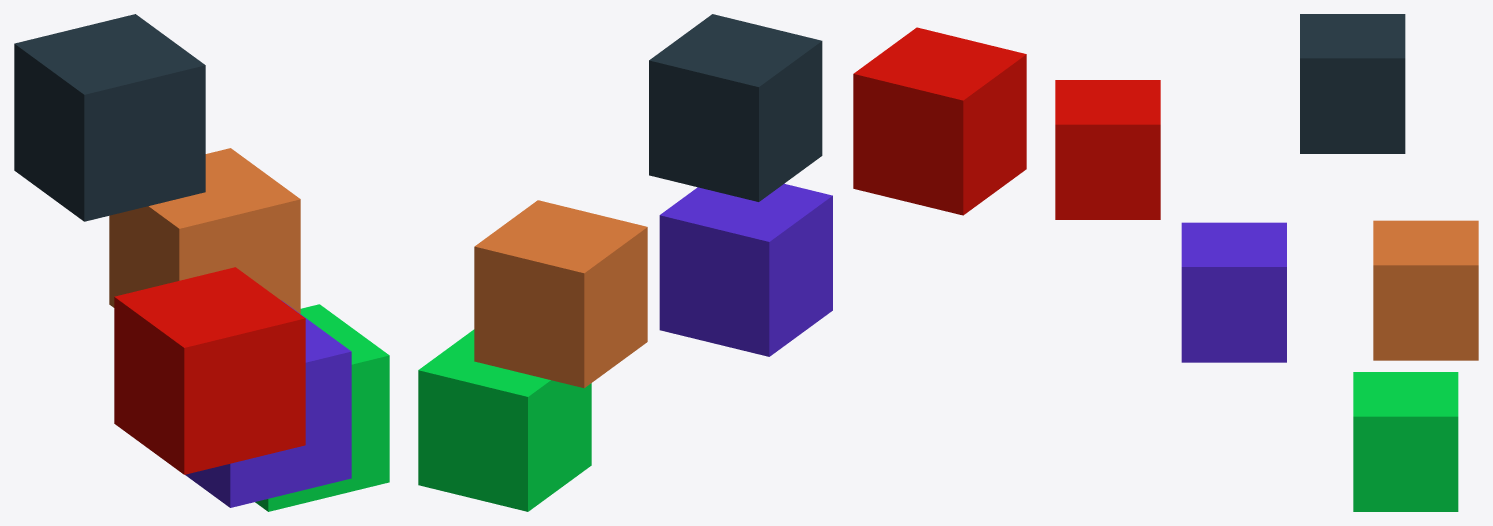
The model's file is kocky.fbx.
3 renders of one model, left to right at view 1: azimuth 30°, elevation 25°; view 2: azimuth 150°, elevation 25°; view 3: azimuth 270°, elevation 25°, orthographic. The views are drawn at different scales.
Visible parts, largest first — view 1: Cube.002, Cube.003, Cube.001, Cube, Cube.004; view 2: Cube.001, Cube.002, Cube.003, Cube, Cube.004; view 3: Cube.001, Cube, Cube.002, Cube.003, Cube.004.
Boxes of the visible parts, left/top/right/bottom form: Cube.002: left=114, top=267, right=305, bottom=474; Cube.003: left=14, top=14, right=205, bottom=221; Cube.001: left=109, top=148, right=300, bottom=313; Cube: left=185, top=300, right=351, bottom=507; Cube.004: left=255, top=304, right=389, bottom=511; Cube.001: left=474, top=200, right=647, bottom=388; Cube.002: left=853, top=27, right=1026, bottom=215; Cube.003: left=649, top=14, right=822, bottom=201; Cube: left=659, top=183, right=832, bottom=356; Cube.004: left=418, top=329, right=591, bottom=511; Cube.001: left=1373, top=220, right=1478, bottom=360; Cube: left=1181, top=222, right=1286, bottom=362; Cube.002: left=1055, top=80, right=1160, bottom=219; Cube.003: left=1300, top=14, right=1405, bottom=153; Cube.004: left=1353, top=372, right=1458, bottom=511.
Size of the model in its own units: 6.65 by 7.82 by 8.04.
